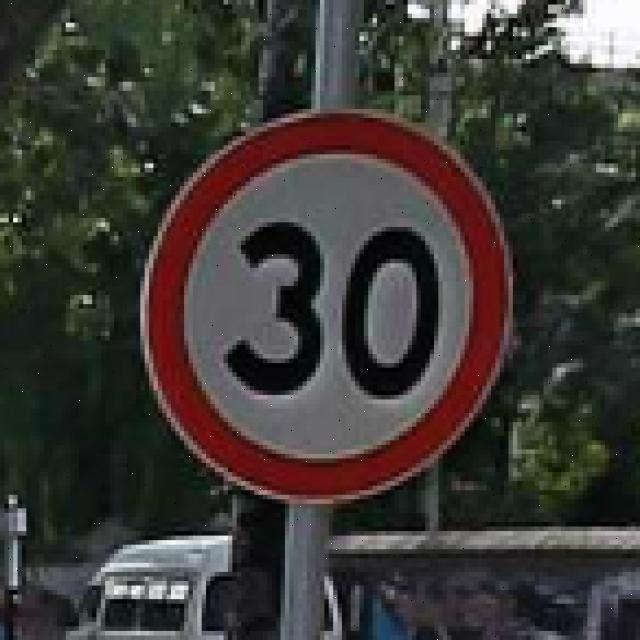speed limit 30: (138, 114, 514, 502)
